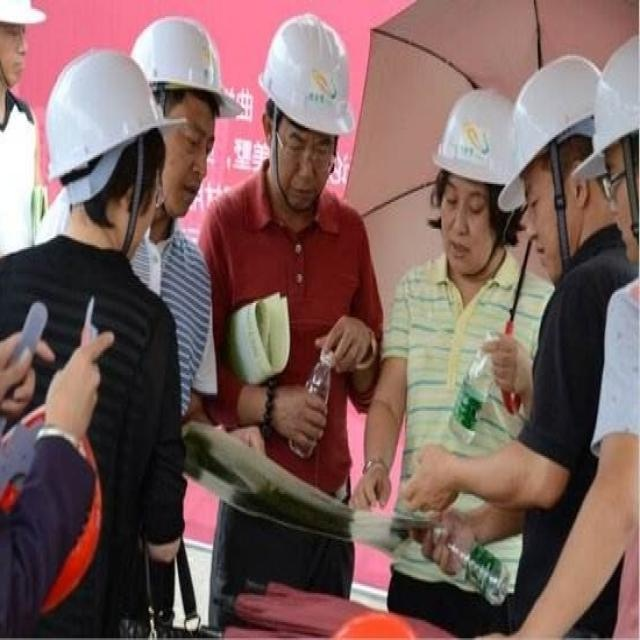Con_Casco: (261, 17, 351, 195)
